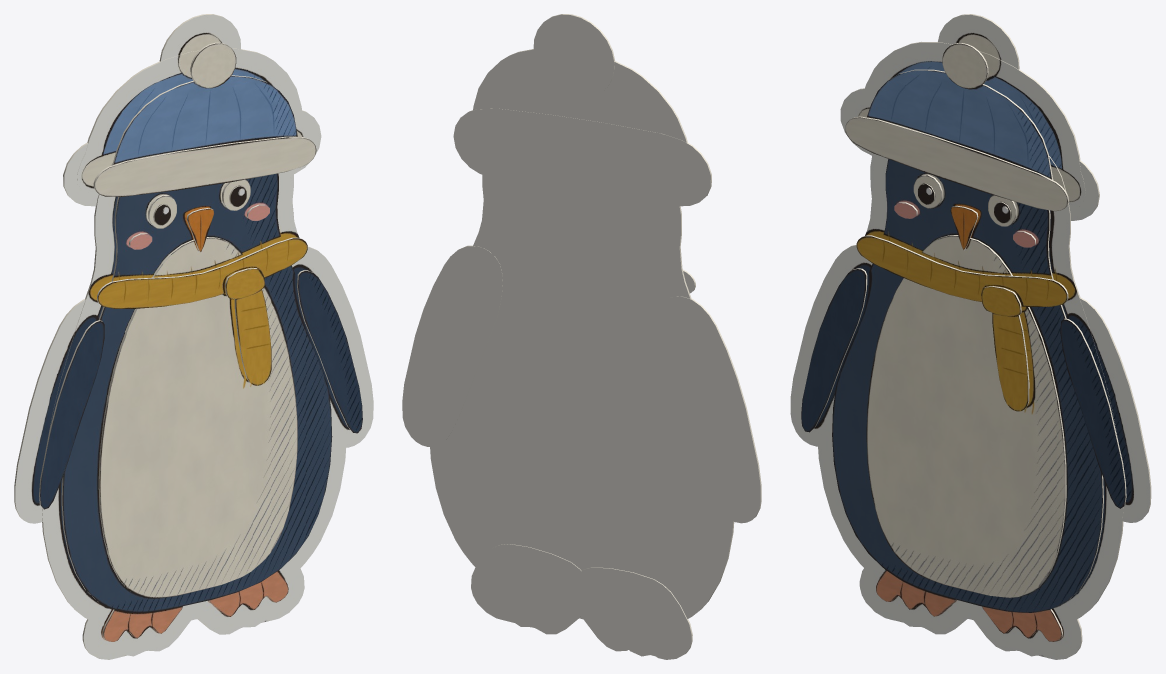
Rendered from tuck-wXyrlQWR.glb.
The picture shows the model from 3 angles, left to right: view 1: azimuth 30°, elevation 25°; view 2: azimuth 150°, elevation 25°; view 3: azimuth 330°, elevation 25°; orthographic projection.
Visible parts, largest first — view 1: tuck.001; view 2: tuck.001; view 3: tuck.001.
Part boxes in pixels (bbox=[...]): tuck.001: bbox=[14, 14, 373, 659]; tuck.001: bbox=[402, 14, 761, 659]; tuck.001: bbox=[790, 14, 1151, 659].
Size of the model in its own units: 0.6809 by 1.14 by 0.0465.
Materials: 3 (1 with a texture image).
